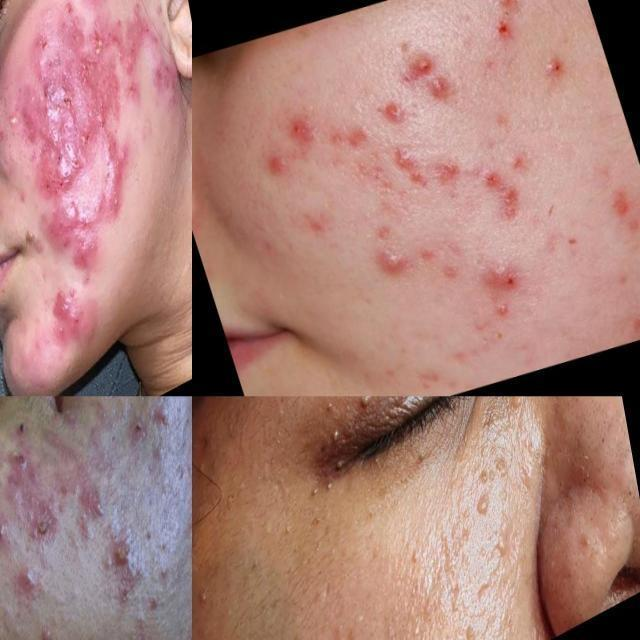Acne: (259, 3, 640, 306), (8, 0, 180, 347), (3, 415, 175, 622)
